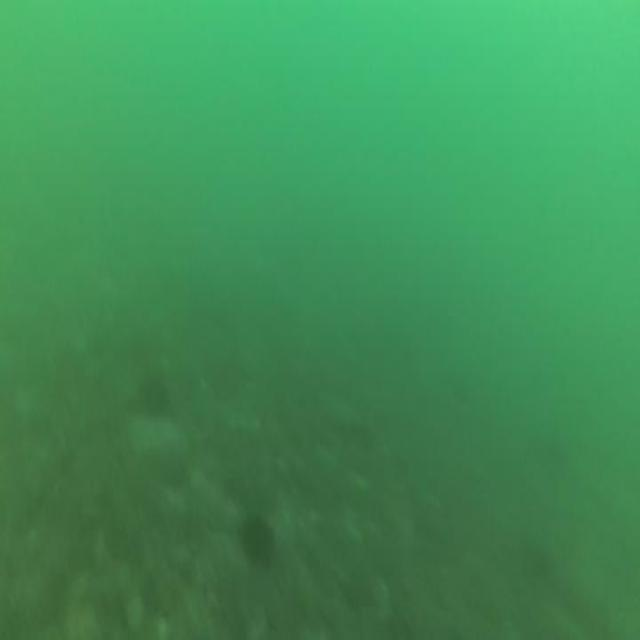echinus: (236, 507, 280, 572), (132, 370, 172, 425)
